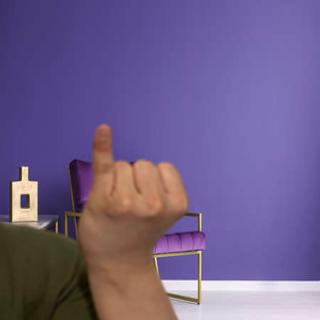FINE: (74, 121, 192, 277)
